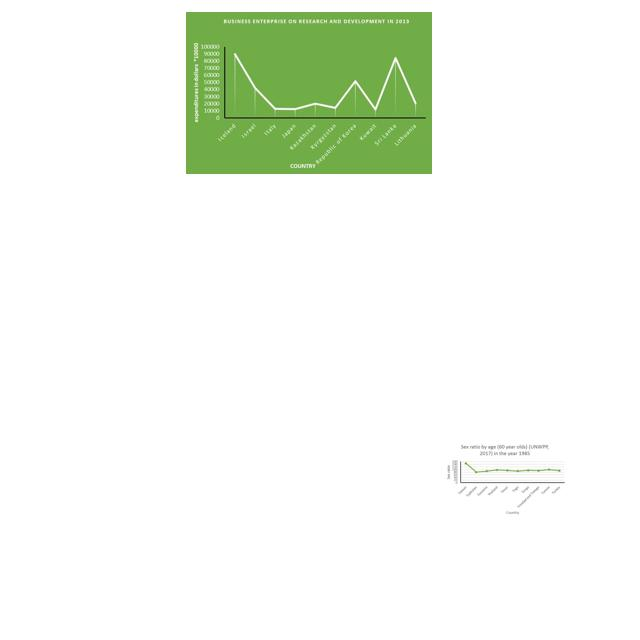Graph: (186, 12, 432, 174), (443, 442, 567, 517)
